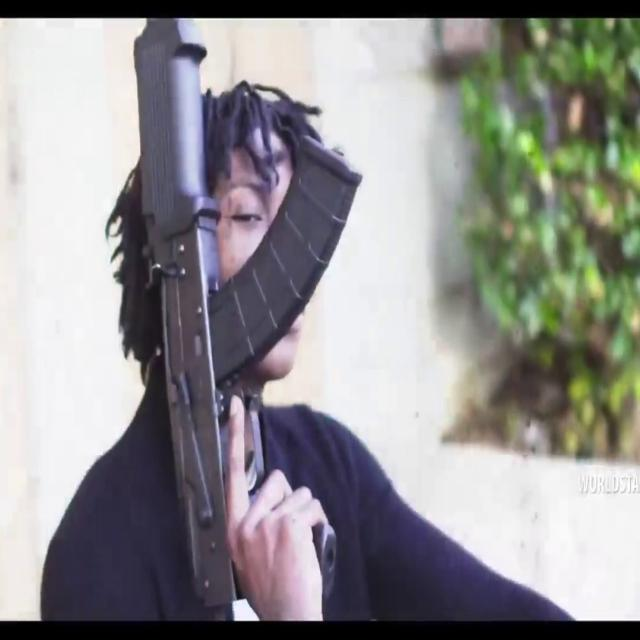Rifle: (110, 27, 364, 628)
